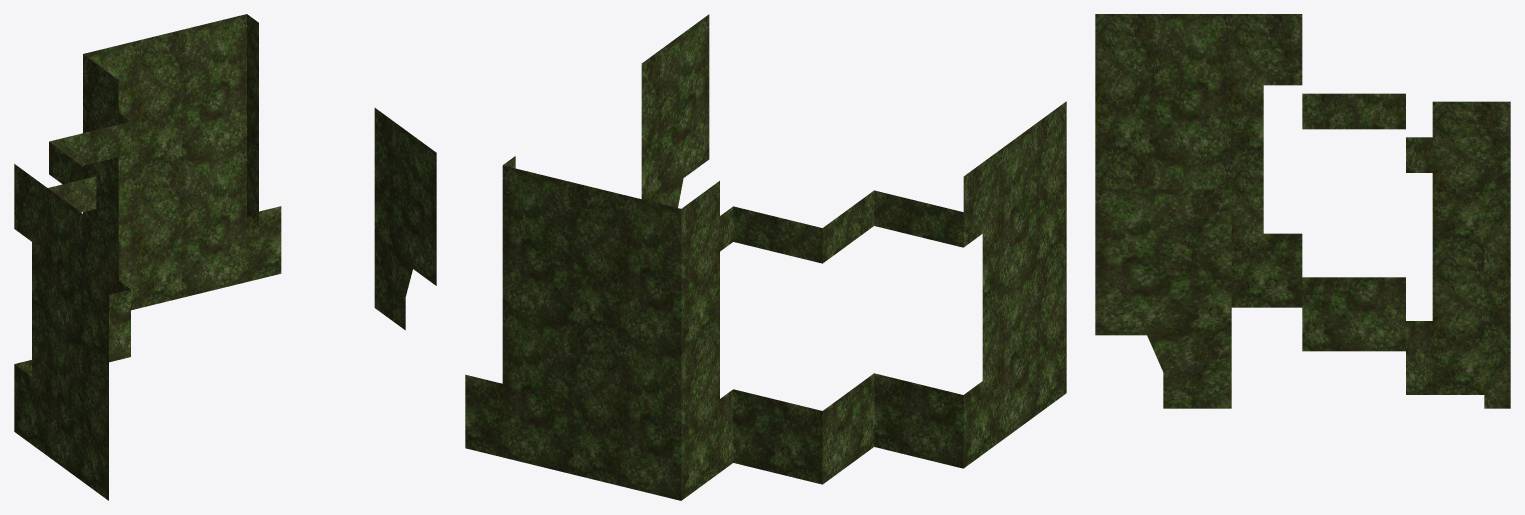
Rendered from OVERHILL_A_01_OBJECT136.fbx.
The picture shows the model from 3 angles, left to right: view 1: azimuth 30°, elevation 25°; view 2: azimuth 150°, elevation 25°; view 3: azimuth 270°, elevation 25°; orthographic projection. The views are drawn at different scales.
Visible parts, largest first — view 1: OVERHILL_A_01_OBJECT136; view 2: OVERHILL_A_01_OBJECT136; view 3: OVERHILL_A_01_OBJECT136.
Boxes of the visible parts, x1,y1,x2,y2 form: OVERHILL_A_01_OBJECT136: (14,14,436,500); OVERHILL_A_01_OBJECT136: (465,14,1066,500); OVERHILL_A_01_OBJECT136: (1095,14,1510,408).
Bounding box in the file's own units: 88347 × 62500 × 80196.
1 material, 1 textured.
